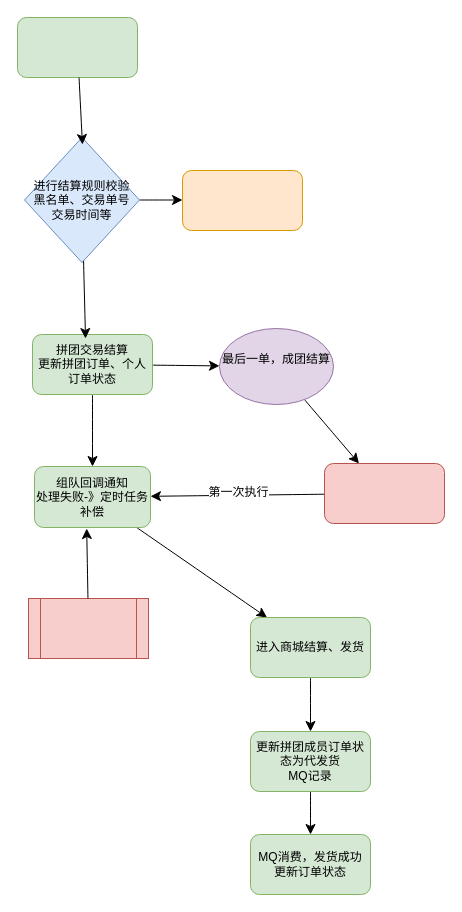
Image size: 462x912. Some labels were removed from this diagram. Here are the shapes that lost their labels. From the top down, the centre of each, then its label:
(77,47): 进入拼团结算
(242,200): 校验结束时会在上下文中构建拼团实体 并带上MQ topic
(384,493): 写入通知任务 给团队每个用户给予通知
(88,628): 定时任务 扫描未执行、重试任务
